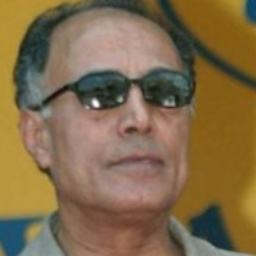Person: (7, 3, 228, 256)
